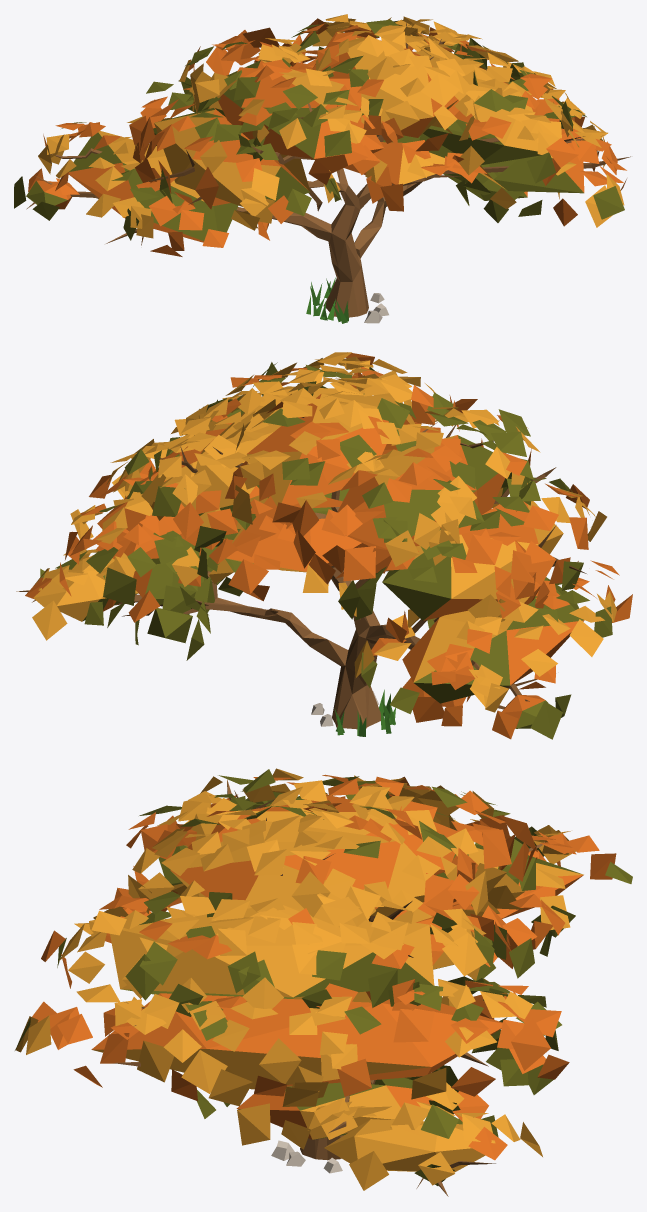
Rendered from elm_4_autumn.glb.
The picture shows the model from 3 angles, top to bottom: view 1: azimuth 30°, elevation 25°; view 2: azimuth 150°, elevation 25°; view 3: azimuth 270°, elevation 25°; orthographic projection. The views are drawn at different scales.
Parts seen in each view (by area): view 1: elm_4_autumn; view 2: elm_4_autumn; view 3: elm_4_autumn.
Part boxes in pixels (x1=…): elm_4_autumn: x1=14, y1=14, x2=630, y2=323; elm_4_autumn: x1=16, y1=352, x2=632, y2=739; elm_4_autumn: x1=15, y1=768, x2=632, y2=1196.
Size of the model in its own units: 11.74 by 6.33 by 10.08.
